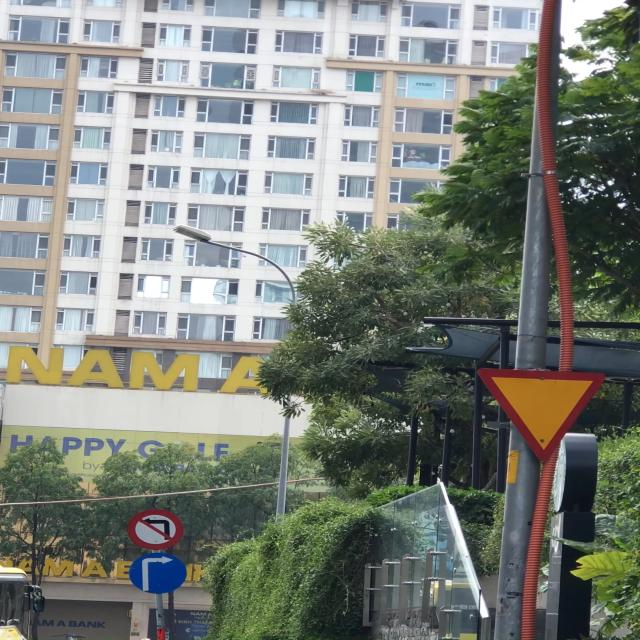Bien bao cam re trai: (124, 509, 184, 551)
Bien bao giao nhau voi duong uu tien: (476, 364, 622, 466)
Bien bao huong di phai theo: (128, 552, 194, 598)
